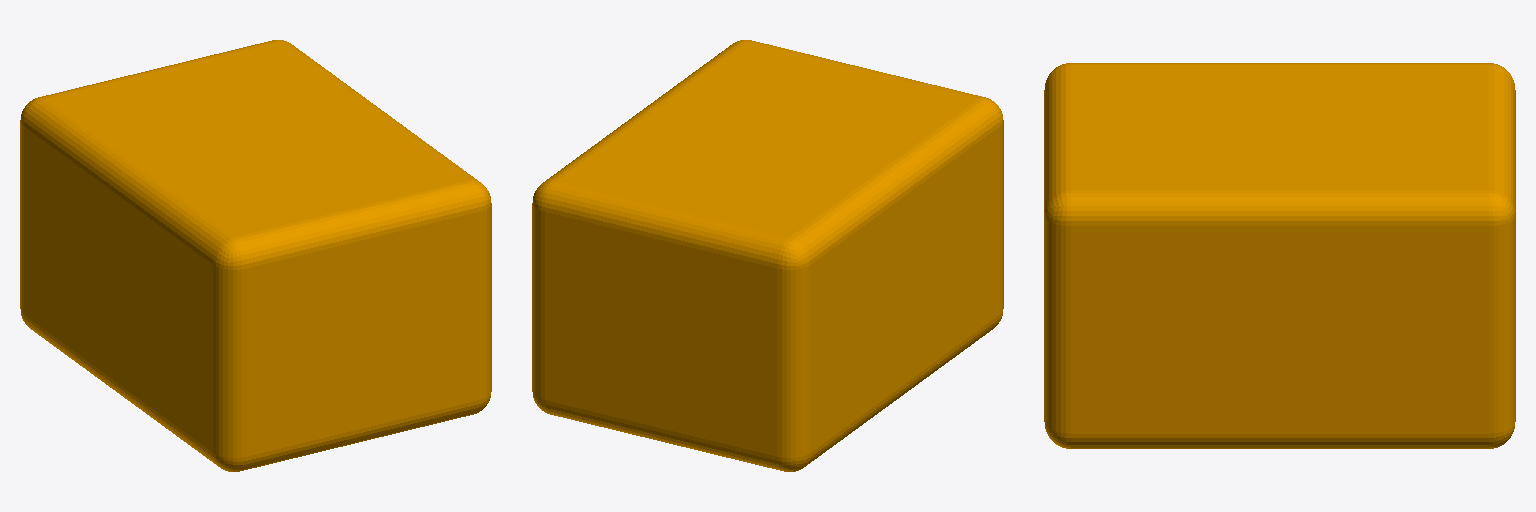
robot.urdf — tile_9m:
<?xml version="1.0"?>
<robot name="tile_9m">
  <link name="tile">
    <inertial>
      <origin xyz="0 0 0" rpy="0 0 0"/>
      <mass value="0.027709"/>
      <inertia ixx="3.8470e-06" iyy="2.5793e-06" izz="4.3896e-06" ixy="0" ixz="0" iyz="0"/>
    </inertial>
    <visual>
      <origin xyz="0 0 0" rpy="0 0 0"/>
      <geometry><mesh filename="tile_9m.obj"/></geometry>
    </visual>
    <collision>
      <origin xyz="0 0 0" rpy="0 0 0"/>
      <geometry><box size="0.026 0.035 0.021"/></geometry>
    </collision>
  </link>
</robot>

--- Facts derived from the render (not from the file) ---
Views: 3 orthographic renders of the robot side by side, from view 1: azimuth 30°, elevation 25°; view 2: azimuth 150°, elevation 25°; view 3: azimuth 270°, elevation 25°.
Robot: tile_9m — 1 links, 0 joints (none); root link tile; default pose: every joint at zero.
Visible links, largest first — view 1: tile; view 2: tile; view 3: tile.
Link boxes in pixels (x1,y1,x2,y2): tile: [20, 40, 491, 471]; tile: [532, 40, 1003, 471]; tile: [1044, 63, 1515, 448].
Size in the robot's own frame: 0.026 by 0.035 by 0.021 metres.
Meshes: 1 distinct files referenced, 1 mesh visuals loaded (1 OBJ).
